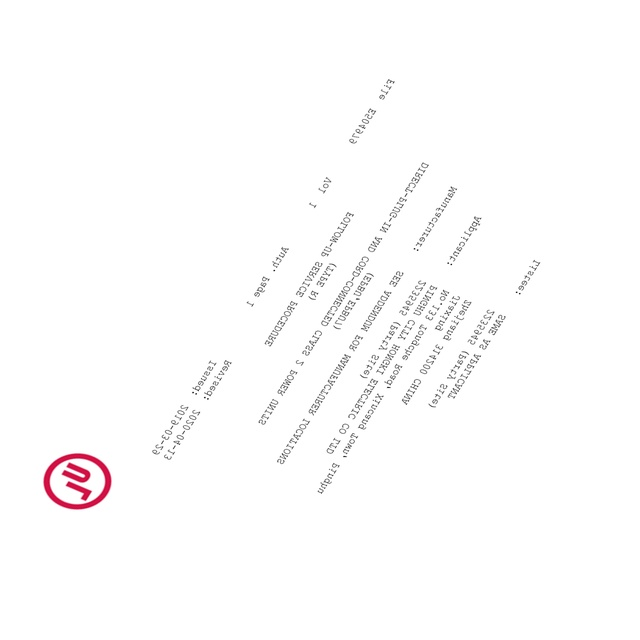ul: (42, 451, 113, 511)
